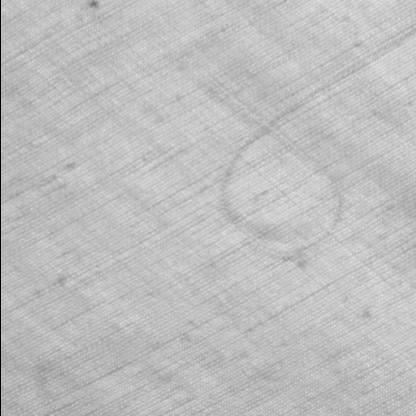objects: (205, 23, 415, 259)
